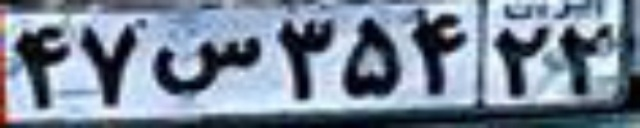2: (275, 16, 337, 101), (557, 24, 612, 98), (493, 25, 547, 97)
4: (408, 12, 470, 95), (13, 25, 70, 109)
5: (344, 17, 402, 97)
7: (74, 23, 139, 106)
sin: (152, 35, 261, 96)
